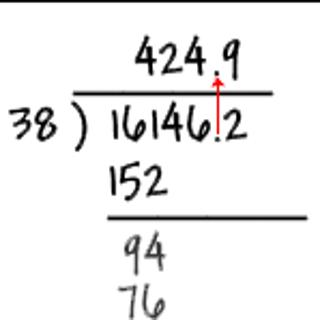.: (210, 67, 223, 76), (212, 135, 222, 146)
1: (106, 105, 121, 144), (106, 163, 119, 201), (149, 106, 161, 142)
2: (156, 36, 184, 81), (220, 104, 250, 145), (143, 161, 168, 200)
3: (7, 103, 32, 140)
4: (140, 224, 168, 275), (131, 31, 158, 82), (161, 99, 186, 146), (184, 32, 206, 80)
5: (118, 158, 143, 205)
6: (184, 100, 213, 147), (120, 99, 148, 144), (139, 281, 169, 319)
7: (115, 283, 139, 319)
8: (33, 103, 58, 143)
9: (222, 34, 245, 83), (121, 230, 141, 275)
